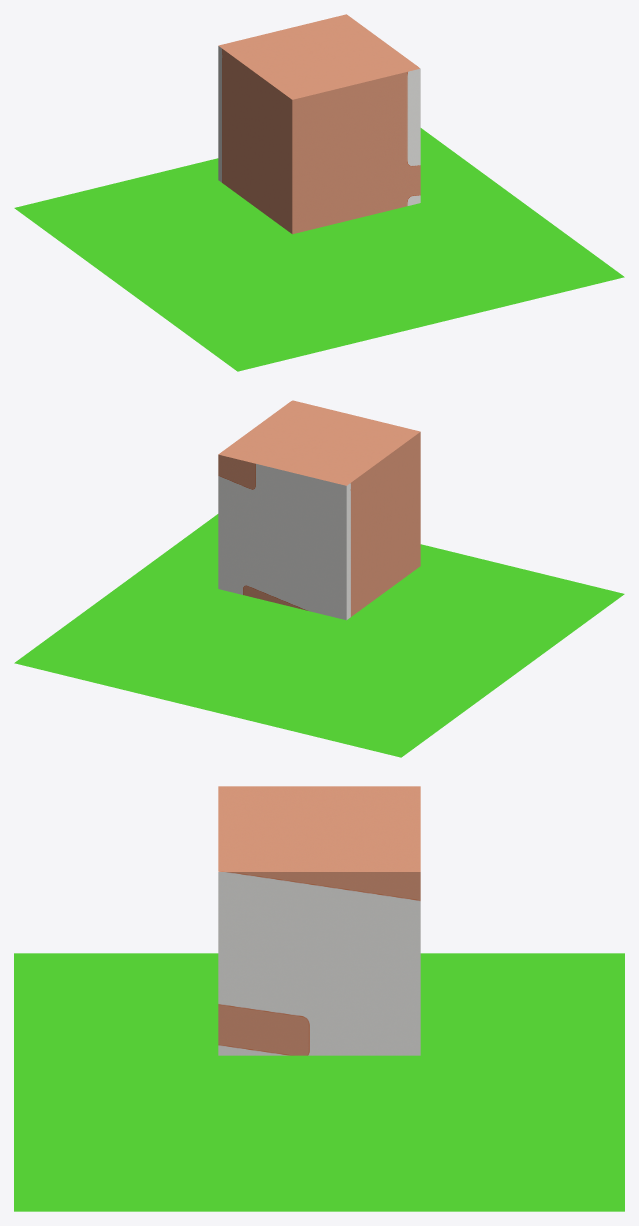
File: testasset.glb
The picture shows the model from 3 angles, top to bottom: view 1: azimuth 30°, elevation 25°; view 2: azimuth 150°, elevation 25°; view 3: azimuth 270°, elevation 25°; orthographic projection. The views are drawn at different scales.
Parts seen in each view (by area): view 1: Cube; view 2: Cube; view 3: Cube.
Part boxes in pixels (x1,y1,x2,y2): Cube: [14, 14, 624, 371]; Cube: [14, 400, 624, 757]; Cube: [14, 786, 624, 1211].
Size of the model in its own units: 2 by 0.9153 by 2.
2 materials, 1 textured.
